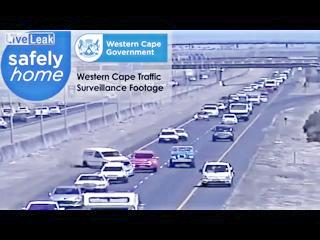Car: (83, 191, 141, 210), (82, 149, 131, 170), (49, 186, 83, 209), (202, 162, 234, 186), (128, 150, 159, 172), (74, 173, 108, 191), (98, 164, 130, 183), (169, 146, 195, 167), (229, 103, 250, 121), (24, 201, 61, 210), (212, 129, 234, 142), (159, 130, 179, 143), (12, 110, 30, 123), (202, 105, 219, 117), (172, 128, 189, 140), (221, 161, 235, 174), (222, 114, 238, 125), (34, 106, 50, 117), (215, 125, 234, 134), (248, 93, 261, 105), (195, 111, 210, 120), (213, 100, 225, 111), (225, 101, 236, 112), (16, 106, 31, 114), (236, 92, 248, 102), (264, 79, 277, 88), (221, 96, 234, 105), (49, 106, 61, 115), (1, 108, 13, 117), (0, 117, 8, 128), (266, 86, 276, 94), (256, 80, 266, 88), (243, 86, 254, 93), (231, 94, 240, 102), (260, 95, 268, 104), (280, 73, 288, 81), (259, 78, 268, 85), (250, 84, 260, 90), (277, 77, 285, 84), (274, 79, 282, 86), (283, 69, 291, 76), (200, 73, 209, 79), (272, 71, 279, 78), (171, 80, 179, 86), (57, 100, 65, 106), (199, 69, 207, 74), (209, 67, 217, 71), (189, 77, 196, 81), (297, 67, 302, 71), (220, 68, 225, 72)
Major Accident: (80, 148, 136, 183)
